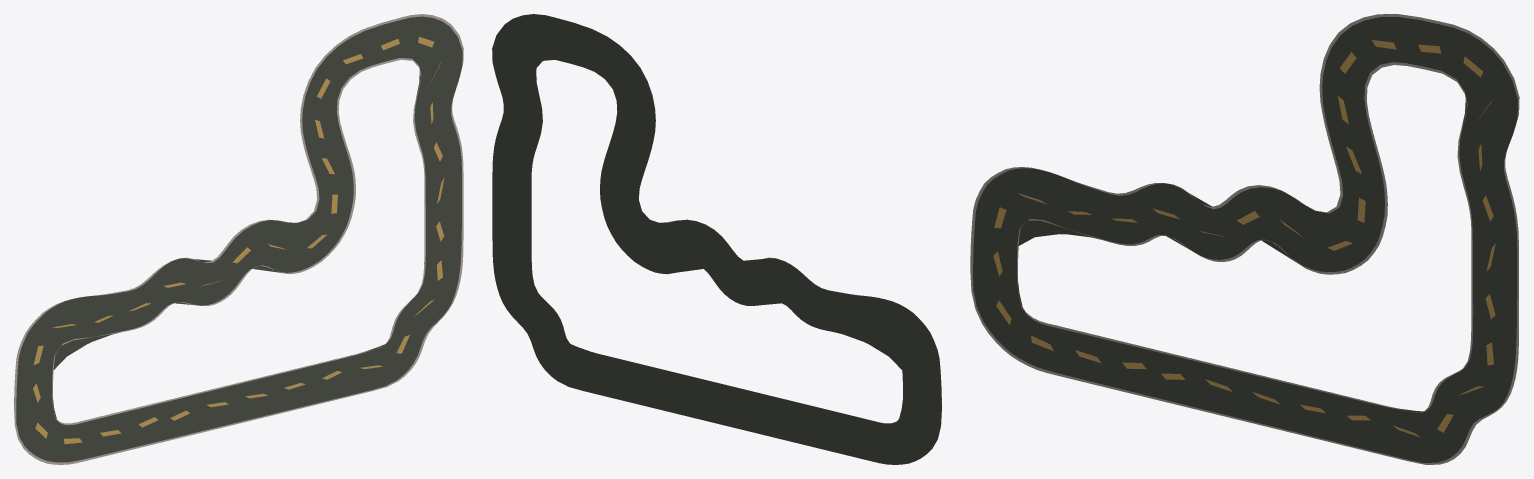
The model's file is track.obj.
3 renders of one model, left to right at view 1: azimuth 30°, elevation 25°; view 2: azimuth 150°, elevation 25°; view 3: azimuth 330°, elevation 25°, orthographic. The views are drawn at different scales.
Size of the model in its own units: 7.59 by 5.91 by 0.002.
